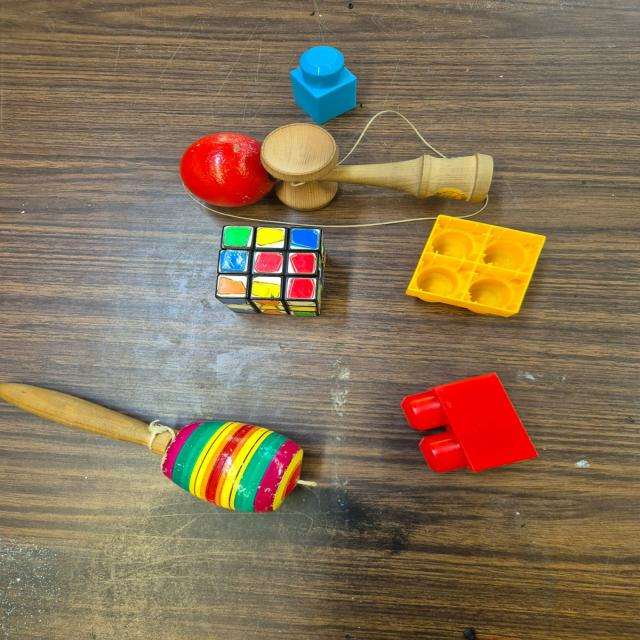balero: (2, 382, 319, 516)
balero ball: (184, 108, 504, 219)
lego 2: (398, 371, 542, 473)
lego 4: (404, 216, 550, 316)
lego_1: (291, 46, 362, 126)
rubick: (212, 226, 326, 316)
